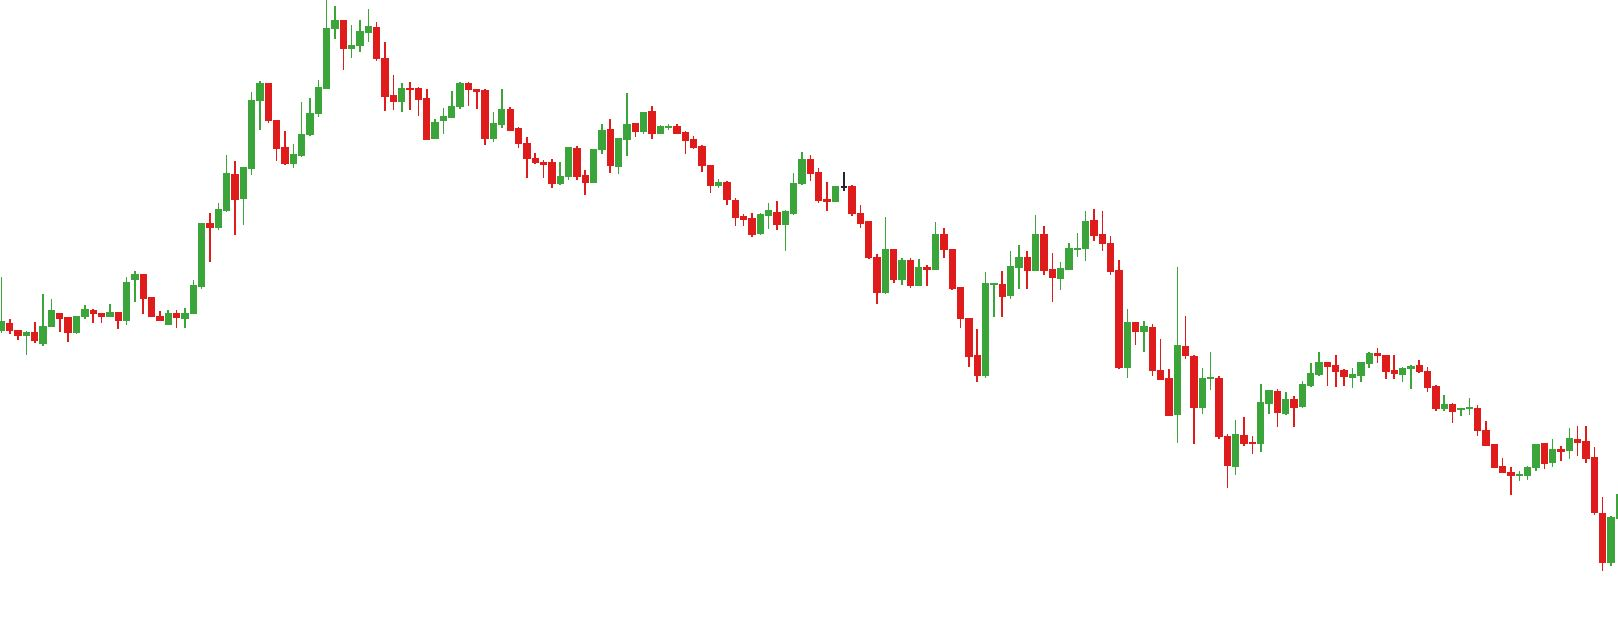sell: (1029, 204, 1099, 271)
